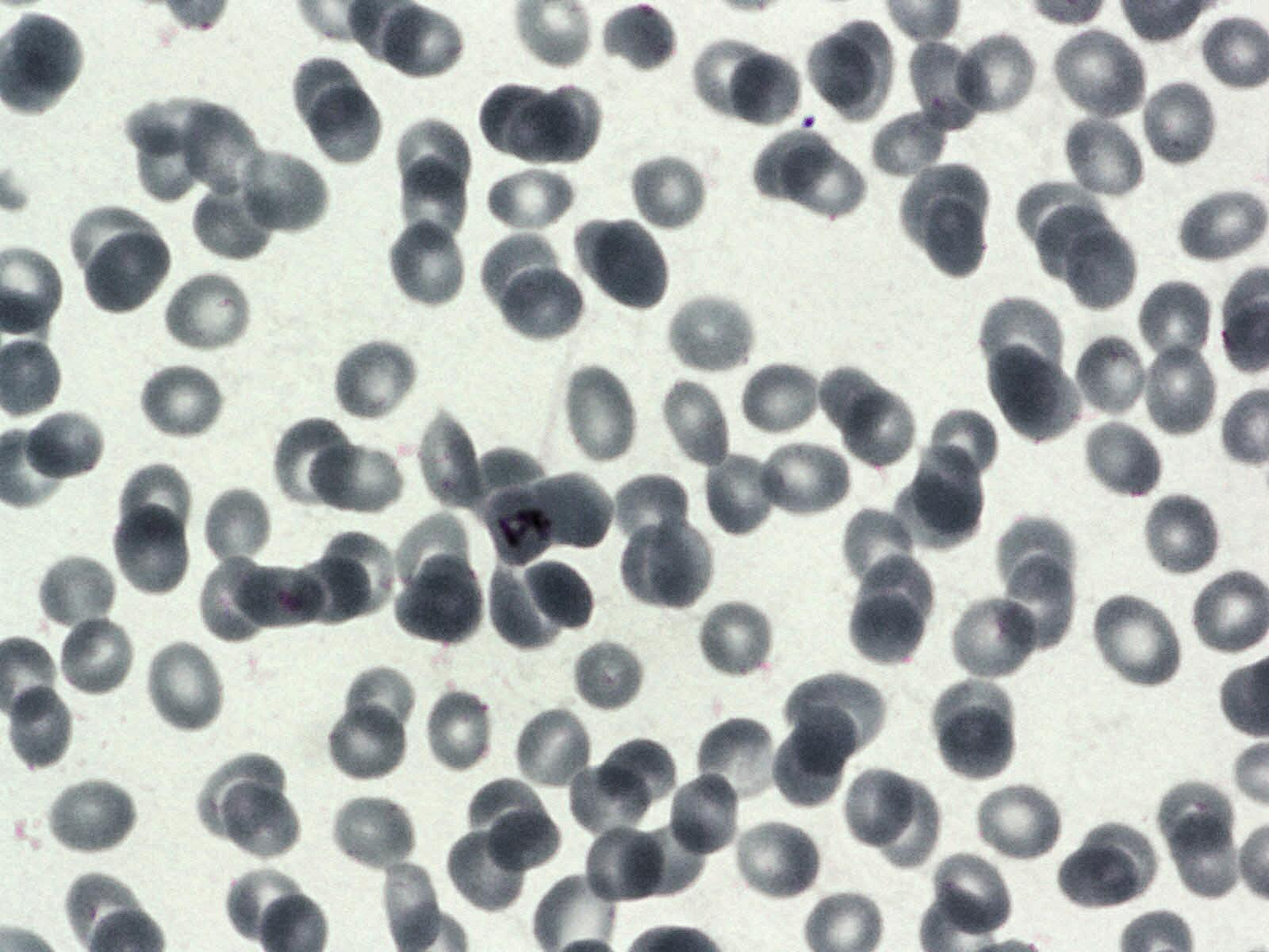Infected: (485, 481, 557, 567)
Uninfected: (1036, 202, 1137, 305), (765, 701, 855, 804), (196, 557, 306, 641), (574, 215, 669, 312), (788, 670, 888, 762), (393, 550, 486, 647), (1090, 593, 1183, 689), (826, 373, 918, 470), (268, 415, 360, 512), (1050, 30, 1145, 121), (0, 14, 92, 107), (995, 345, 1080, 445), (690, 714, 784, 804), (175, 104, 262, 199), (904, 454, 987, 553), (234, 147, 328, 234), (663, 290, 759, 374), (560, 365, 639, 464), (144, 639, 226, 734), (993, 513, 1075, 608), (164, 270, 255, 355), (446, 823, 530, 915), (973, 780, 1064, 864), (112, 501, 191, 597), (842, 578, 929, 665), (927, 850, 1012, 939), (976, 296, 1060, 386), (730, 819, 822, 901), (46, 776, 139, 857), (333, 339, 420, 425), (606, 470, 692, 557), (1064, 114, 1148, 203), (1141, 342, 1219, 437), (370, 1, 465, 79), (191, 176, 277, 261), (840, 505, 923, 593), (387, 219, 467, 310), (197, 752, 283, 836), (581, 822, 668, 905), (83, 232, 172, 313), (219, 865, 308, 946), (325, 698, 409, 783), (477, 83, 575, 155), (718, 49, 803, 132), (139, 361, 226, 442), (704, 448, 784, 536), (1135, 280, 1213, 370), (1177, 186, 1268, 263), (485, 161, 578, 236), (1001, 555, 1072, 653), (508, 89, 604, 161), (1140, 493, 1221, 578), (328, 795, 415, 874), (658, 378, 733, 469), (1079, 419, 1162, 501), (628, 152, 710, 235), (1140, 80, 1218, 167), (829, 18, 895, 120), (38, 551, 121, 632), (1169, 808, 1242, 900), (903, 162, 988, 241), (136, 115, 213, 202), (910, 35, 984, 125), (71, 207, 161, 281), (696, 598, 776, 681), (514, 708, 592, 793), (500, 267, 586, 344), (0, 683, 76, 770), (422, 688, 498, 774), (953, 598, 1037, 675), (20, 408, 106, 483), (343, 663, 423, 743), (323, 529, 401, 611), (221, 777, 301, 856), (392, 117, 471, 196), (783, 145, 866, 220), (312, 443, 404, 510), (633, 820, 714, 896), (570, 636, 646, 716), (393, 515, 473, 591), (597, 0, 678, 75), (1160, 778, 1235, 859), (619, 524, 688, 612), (760, 444, 849, 512), (957, 37, 1034, 115), (750, 130, 836, 199), (647, 520, 712, 611), (118, 463, 194, 540), (742, 366, 828, 434), (202, 487, 274, 568), (874, 780, 937, 872), (313, 83, 381, 168), (924, 409, 1003, 482), (598, 738, 681, 807), (842, 768, 915, 846), (399, 158, 468, 240), (1072, 232, 1139, 316), (232, 570, 328, 628), (919, 199, 988, 279), (62, 626, 143, 694), (1018, 182, 1101, 248), (464, 780, 542, 850), (871, 109, 950, 178), (937, 708, 1017, 776), (1083, 821, 1157, 894), (1079, 340, 1155, 410), (420, 416, 480, 504), (931, 681, 1012, 746), (484, 234, 555, 308), (492, 571, 558, 650), (569, 767, 649, 832), (1056, 849, 1139, 911), (695, 38, 761, 114), (665, 776, 732, 850), (553, 474, 619, 549), (523, 562, 596, 629), (292, 60, 361, 129), (807, 38, 877, 105), (306, 555, 372, 624), (489, 807, 560, 870)
